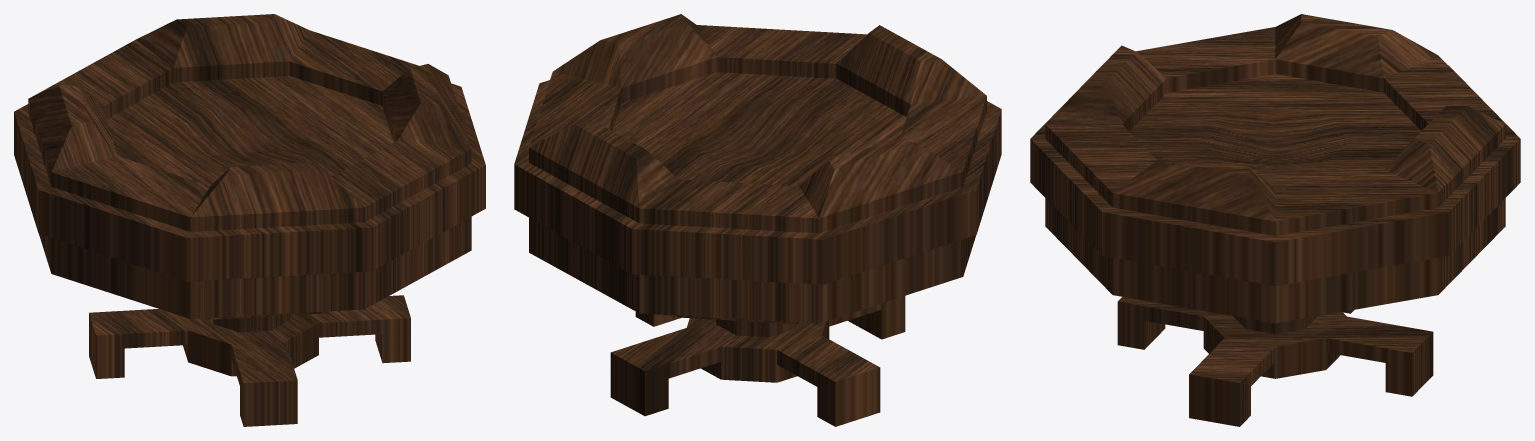
The model's file is FOREST_PLATFORM.fbx.
3 views of the same model, side by side, from view 1: azimuth 30°, elevation 25°; view 2: azimuth 150°, elevation 25°; view 3: azimuth 270°, elevation 25° (orthographic). The views are drawn at different scales.
Parts seen in each view (by area): view 1: FOREST_PLATFORM; view 2: FOREST_PLATFORM; view 3: FOREST_PLATFORM.
Boxes of the visible parts, x1,y1,x2,y2 form: FOREST_PLATFORM: [14, 14, 485, 426]; FOREST_PLATFORM: [514, 14, 1001, 426]; FOREST_PLATFORM: [1030, 14, 1520, 426].
Size of the model in its own units: 15.25 by 9.1 by 15.25.
Materials: 1 (1 with a texture image).
